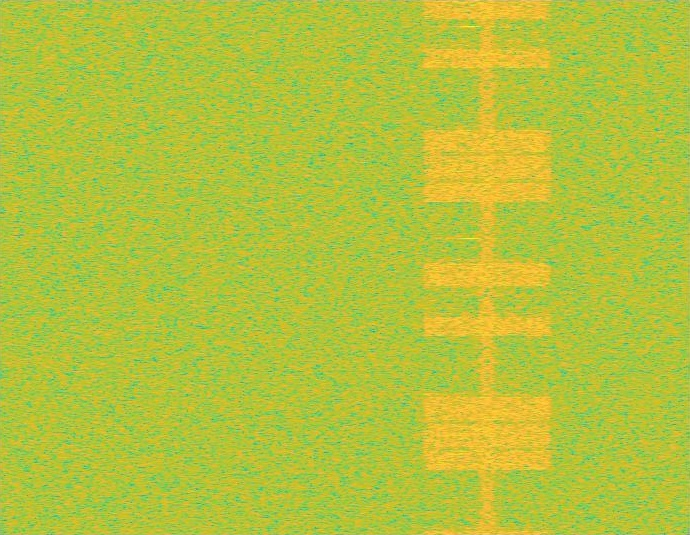DSSS: (478, 0, 497, 534)
LTE: (418, 0, 556, 534)
Radar: (464, 0, 478, 534)
